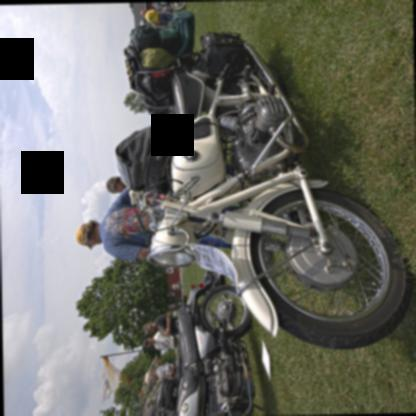backpack: (114, 123, 160, 190), (137, 48, 177, 76)
handbag: (115, 124, 157, 190)
suitcase: (144, 121, 178, 198)
